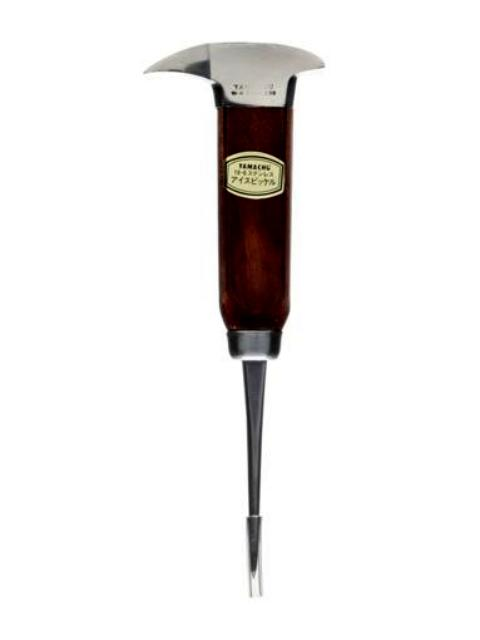ice pick: (143, 37, 329, 601)
